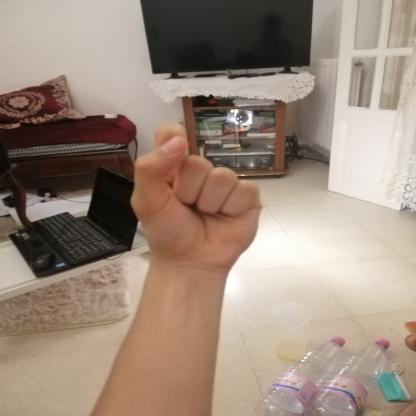FAA: (117, 115, 278, 281)
